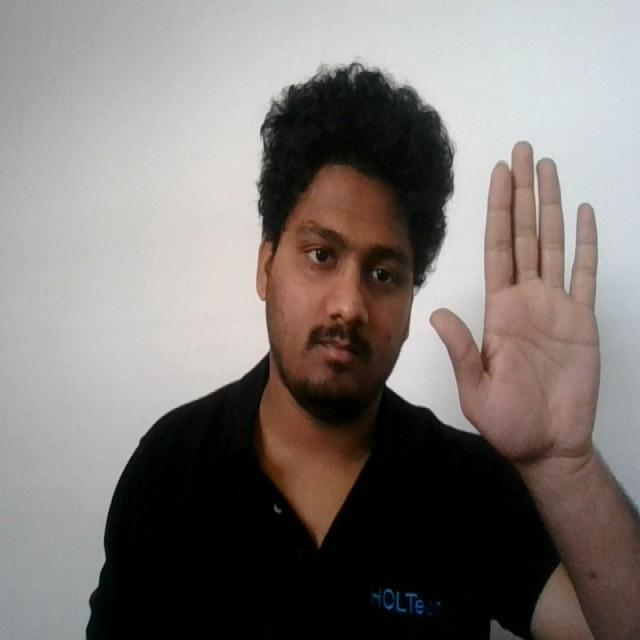Hello: (427, 133, 610, 476)
